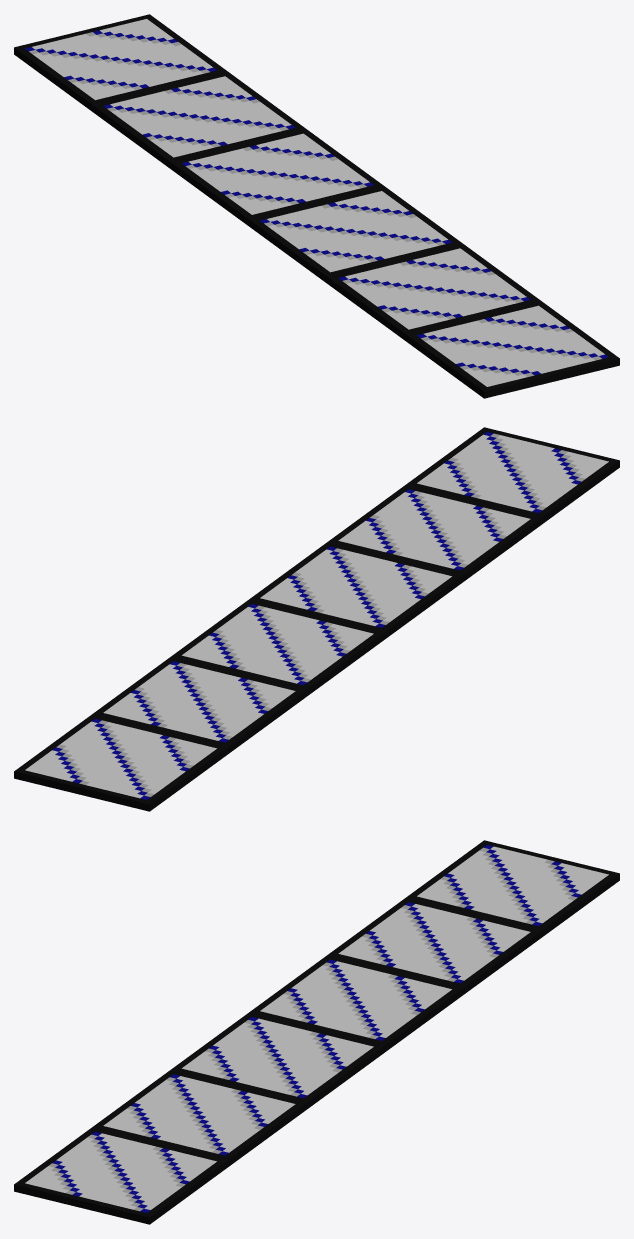
The model's file is LHall.obj.
3 views of the same model, one above another, from view 1: azimuth 30°, elevation 25°; view 2: azimuth 150°, elevation 25°; view 3: azimuth 330°, elevation 25° (orthographic).
Visible parts, largest first — view 1: LHall; view 2: LHall; view 3: LHall.
Part boxes in pixels (x1,y1,x2,y2): LHall: (14, 14, 619, 398); LHall: (14, 427, 619, 811); LHall: (14, 840, 619, 1224).
Bounding box in the file's own units: 20 × 1 × 120.
1 material, 1 textured.
